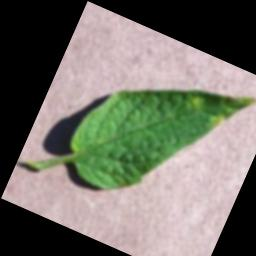Leaf_Mold: (209, 109, 229, 133)
